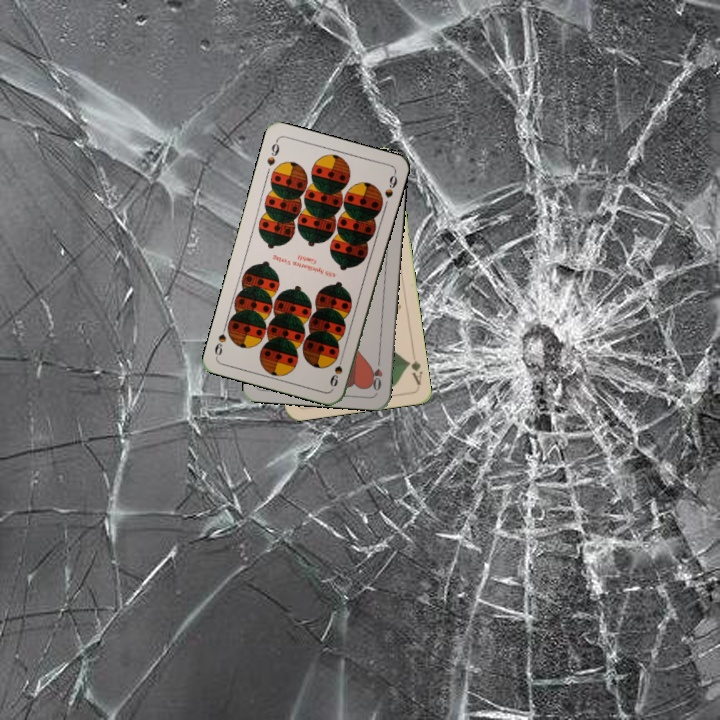GA: (403, 356, 425, 388)
HO: (367, 353, 385, 393)
S9: (326, 350, 346, 390), (263, 136, 282, 169)
